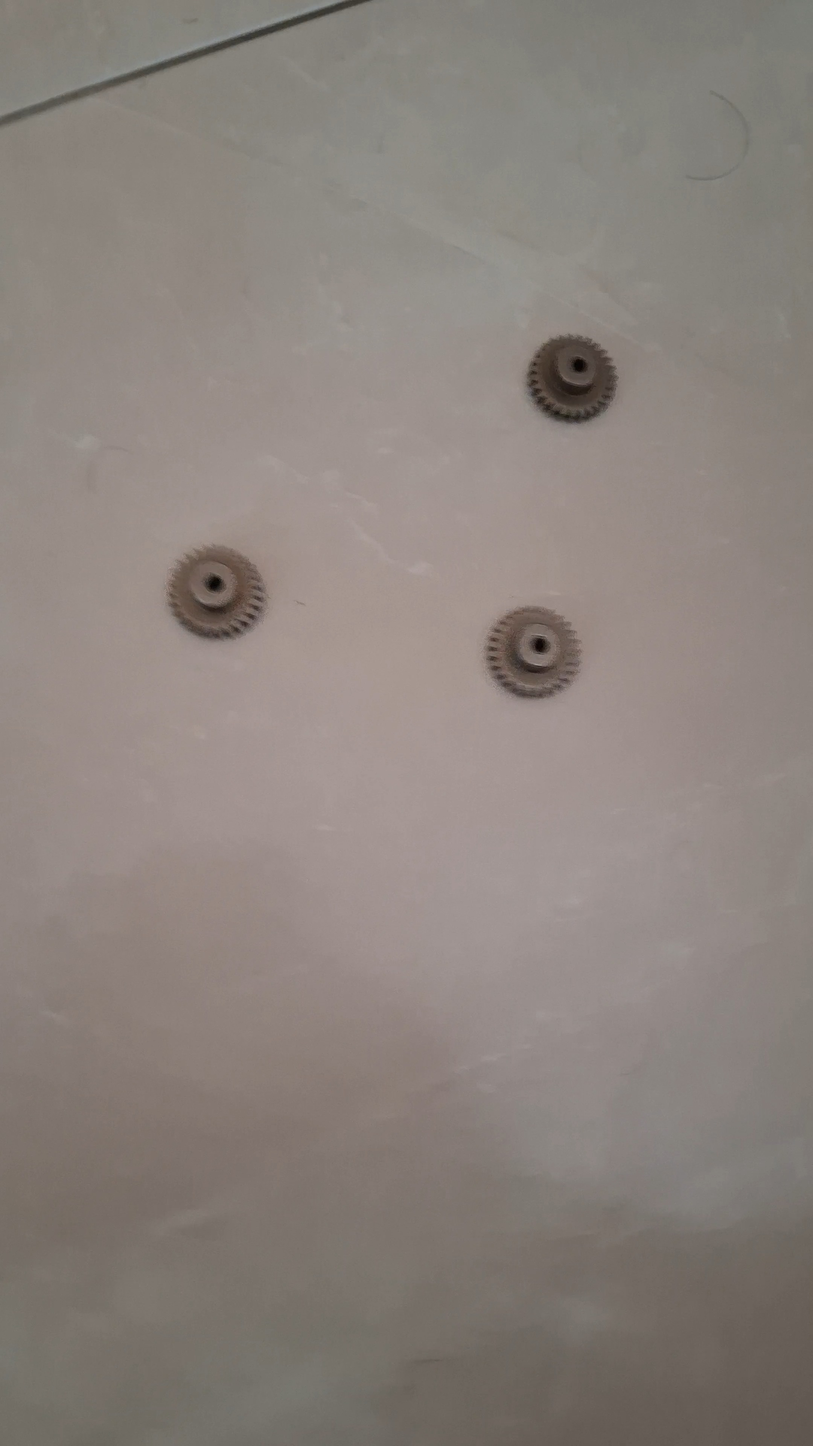spur gear: (167, 546, 266, 638), (485, 607, 580, 697), (528, 336, 617, 421)
